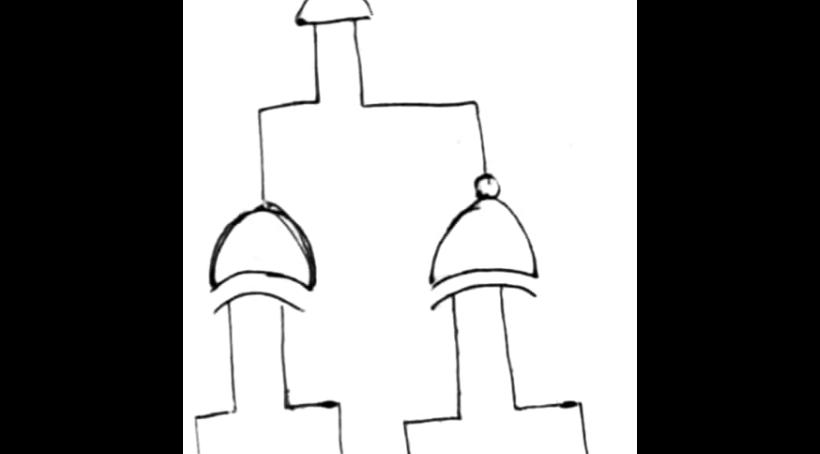and: (289, 0, 383, 39)
xnor: (424, 166, 544, 316)
xor: (203, 194, 322, 320)
